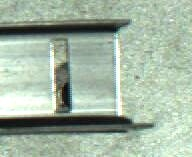40ngpress: (15, 20, 145, 131)
